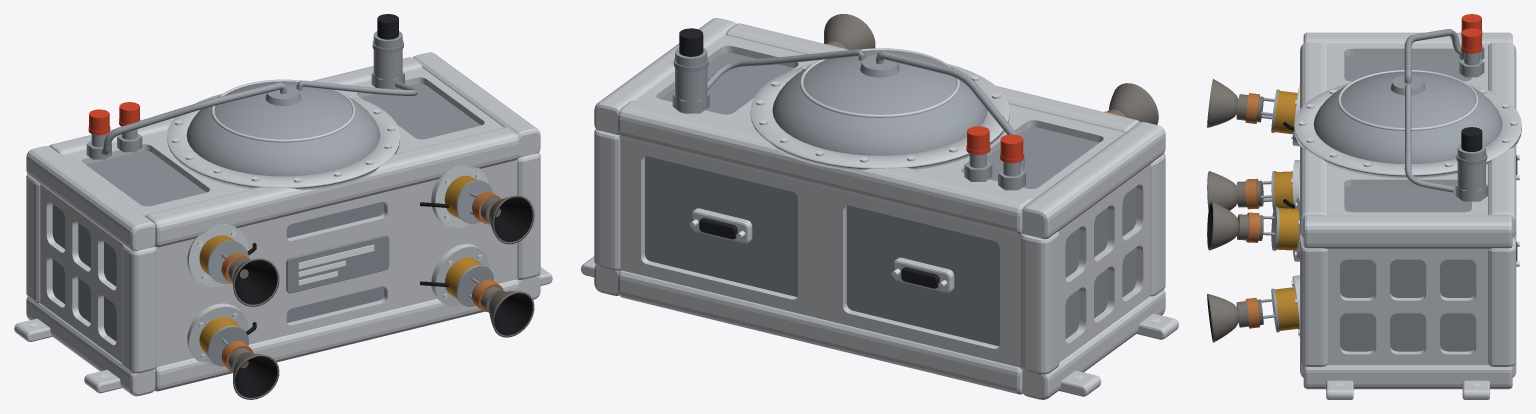
Rendered from prop-chemical.glb.
The picture shows the model from 3 angles, left to right: view 1: azimuth 30°, elevation 25°; view 2: azimuth 150°, elevation 25°; view 3: azimuth 270°, elevation 25°; orthographic projection. The views are drawn at different scales.
Parts seen in each view (by area): view 1: front, tank-dome-0, core, edge-x-11, side--1, edge-x-10, top, bell-throat (×4), edge-z--11, dome-flange-0, boss (×4), edge-y--11 (+18 smaller); view 2: core, back, tank-dome-0, edge-x--11, edge-x--10, side--1, top, edge-z--11, dome-flange-0, edge-y--1-1, edge-x-11, edge-y-1-1 (+19 smaller); view 3: core, tank-dome-0, side-1, edge-z-11, top, edge-z-10, dome-flange-0, bell-bell (×4), edge-x--11, edge-y-1-1, edge-x-11, edge-y-11 (+19 smaller).
Boxes of the visible parts, box(x1,y1,x2,y2) form: front: box(155, 158, 518, 368); tank-dome-0: box(186, 81, 380, 176); core: box(52, 83, 480, 341); edge-x-11: box(145, 127, 519, 247); side--1: box(40, 184, 122, 362); edge-x-10: box(155, 279, 519, 391); top: box(62, 67, 503, 215); bell-throat (×4): box(235, 197, 532, 397); edge-z--11: box(26, 146, 155, 251); dome-flange-0: box(167, 93, 399, 190); boss (×4): box(187, 164, 489, 365); edge-y--11: box(122, 244, 156, 373); core: box(645, 52, 1136, 346); back: box(619, 136, 1022, 369); tank-dome-0: box(772, 50, 987, 155); edge-x--11: box(618, 101, 1033, 234); edge-x--10: box(618, 270, 1022, 394); side--1: box(1058, 164, 1150, 362); top: box(635, 35, 1125, 199); edge-z--11: box(1022, 122, 1165, 239); dome-flange-0: box(750, 63, 1009, 171); edge-y--1-1: box(1020, 231, 1059, 374); edge-x-11: box(726, 23, 1140, 132); edge-y-1-1: box(594, 129, 620, 270); core: box(1340, 55, 1476, 351); tank-dome-0: box(1313, 71, 1502, 163); side-1: box(1327, 248, 1488, 365); edge-z-11: box(1303, 215, 1512, 248); top: box(1328, 44, 1488, 215); edge-z-10: box(1303, 365, 1512, 389); dome-flange-0: box(1294, 83, 1521, 178); bell-bell (×4): box(1207, 79, 1238, 342); edge-x--11: box(1488, 42, 1516, 237); edge-y-1-1: box(1488, 238, 1516, 366); edge-x-11: box(1300, 42, 1327, 237); edge-y-11: box(1300, 238, 1327, 366).
Bounding box in the file's own units: 0.2258 × 0.1107 × 0.1384.
